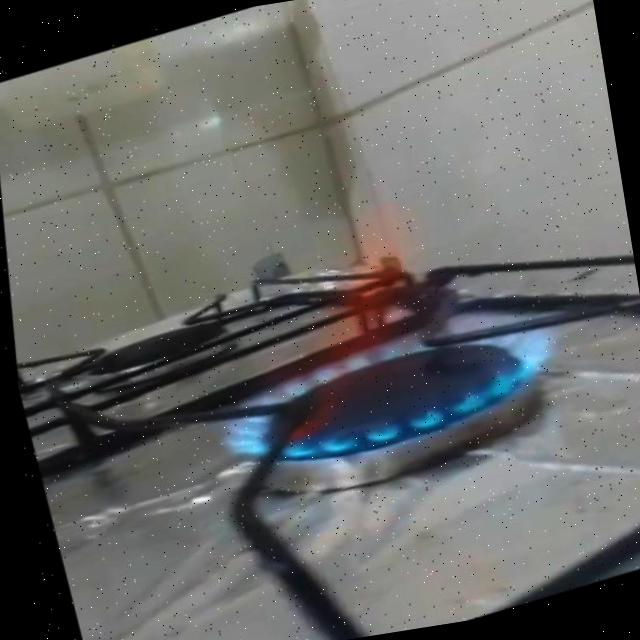fire: (143, 153, 589, 515)
